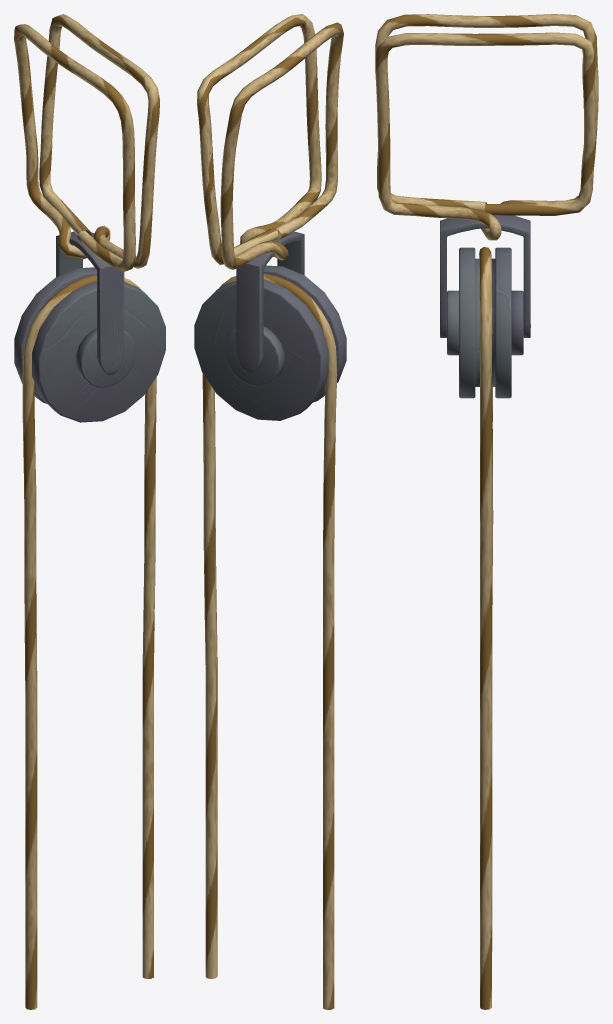
The model's file is roldana_corda.fbx.
The picture shows the model from 3 angles, left to right: view 1: azimuth 30°, elevation 25°; view 2: azimuth 150°, elevation 25°; view 3: azimuth 270°, elevation 25°; orthographic projection.
Visible parts, largest first — view 1: Roldana_Corda; view 2: Roldana_Corda; view 3: Roldana_Corda.
Boxes of the visible parts, box(x1,y1,x2,y2) form: Roldana_Corda: box(14, 14, 165, 1009); Roldana_Corda: box(194, 14, 346, 1009); Roldana_Corda: box(375, 14, 598, 1009).
Bounding box in the file's own units: 29.69 × 200 × 42.45.
